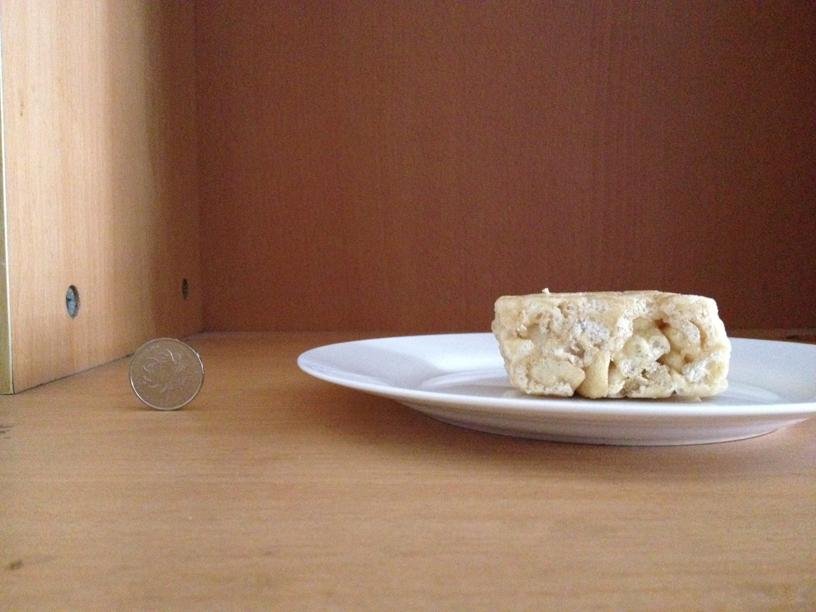coin: (128, 337, 206, 410)
sachima: (492, 290, 728, 397)
